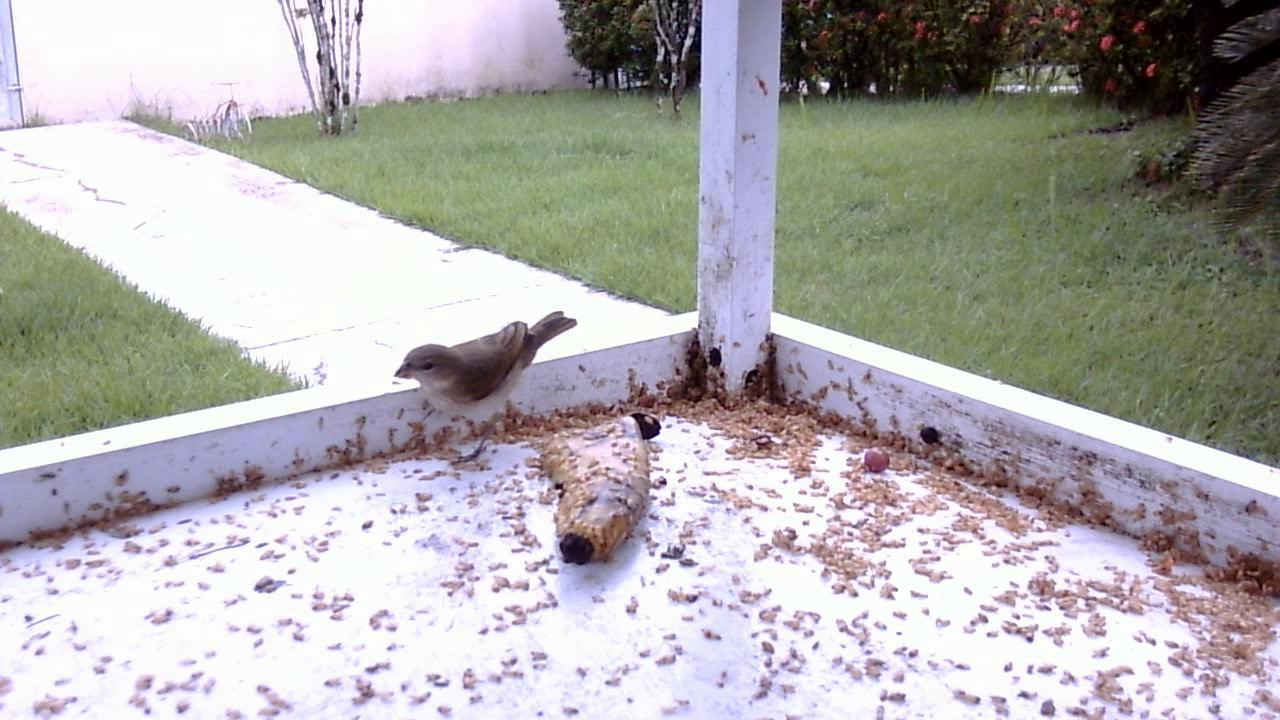canario_do_amazonas: (389, 304, 580, 474)
